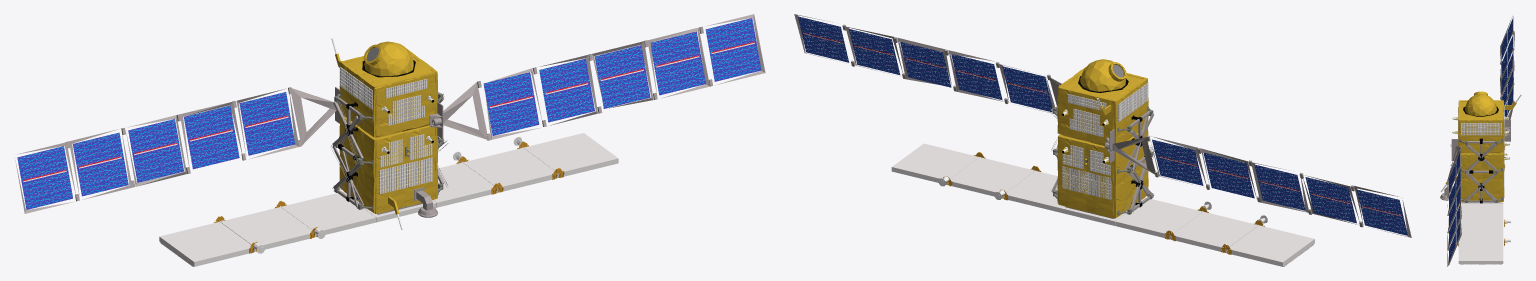
The model's file is sentinel-1a.glb.
3 views of the same model, side by side, from view 1: azimuth 30°, elevation 25°; view 2: azimuth 150°, elevation 25°; view 3: azimuth 270°, elevation 25° (orthographic). The views are drawn at different scales.
Bounding box in the file's own units: 0.5347 × 0.1172 × 0.084.
